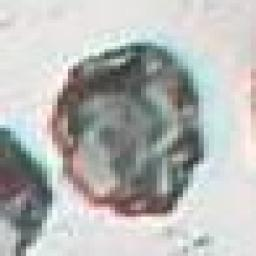crystals: (42, 36, 221, 221)
